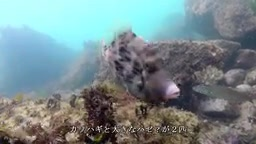kawahagi: (99, 30, 181, 104)
